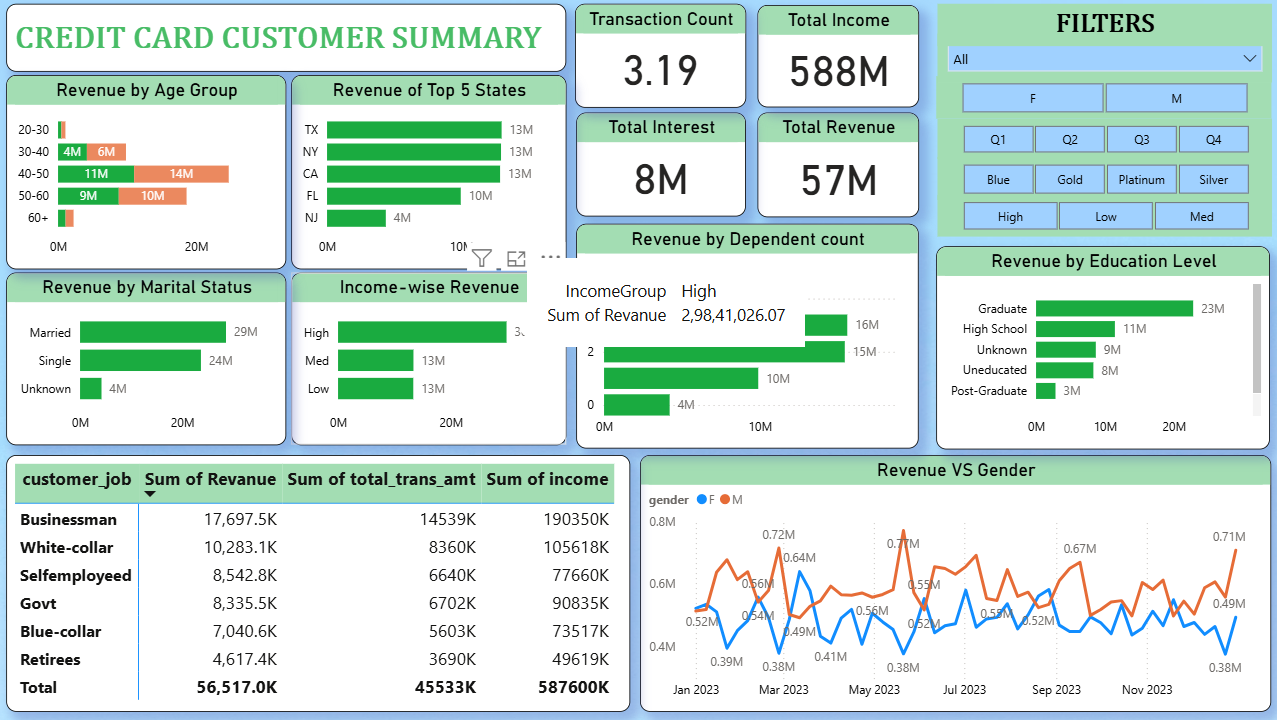

The dashboard page shown, as its layout file describes it:
{"tool":"powerbi","page":{"name":"CC cust repoer","canvas":[1280,720],"ordinal":1},"visuals":[{"type":"textbox","box":[6.3,3.8,559.7,67.8],"z":0},{"type":"card","title":"Total Revenue","fields":{"Values":["Sum(public cc_detail.Revanue)"]},"box":[756.9,112.5,161.4,105.2],"z":1000},{"type":"card","title":"Total Interest","fields":{"Values":["Sum(public cc_detail.interest_earned)"]},"box":[576,112.5,170,103.9],"z":2000},{"type":"card","title":"Total Income","fields":{"Values":["Sum(public cust_detail.income)"]},"box":[756.9,4.9,161.4,102.7],"z":3000},{"type":"card","title":"Transaction Count","fields":{"Values":["Avg(public cust_detail.cust_satisfaction_score)"]},"box":[574.7,3.7,171.2,103.9],"z":4000},{"type":"slicer","fields":{"Values":["public cc_detail.card_category"]},"box":[937.9,157.7,335.1,42.8],"z":5000},{"type":"slicer","fields":{"Values":["public cust_detail.gender"]},"box":[936.7,75.8,335.1,42.8],"z":6000},{"type":"slicer","fields":{"Values":["public cc_detail.week_num"]},"box":[937.9,34.2,335.1,48.9],"z":7000},{"type":"slicer","fields":{"Values":["public cust_detail.IncomeGroup"]},"box":[937.9,194.4,335.1,41.6],"z":8000},{"type":"slicer","fields":{"Values":["public cc_detail.qtr"]},"box":[937.9,118.6,335.1,40.4],"z":9000},{"type":"textbox","box":[937.9,3.7,335.1,42.8],"z":10000},{"type":"lineChart","title":"\tRevenue VS Gender","fields":{"Y":["Sum(public cc_detail.Revanue)"],"Category":["public cc_detail.week_start_date.Variation.Date Hierarchy.Year","public cc_detail.week_start_date.Variation.Date Hierarchy.Quarter","public cc_detail.week_start_date.Variation.Date Hierarchy.Month","public cc_detail.week_start_date.Variation.Date Hierarchy.Day"],"Series":["public cust_detail.gender"]},"box":[639.5,454.9,631,256.8],"z":11000},{"type":"barChart","title":"\tRevenue of Top 5 States","fields":{"Category":["public cust_detail.state_cd"],"Y":["Sum(public cc_detail.Revanue)"]},"box":[291,74.6,275.1,194.4],"z":12000},{"type":"barChart","title":"Income-wise \tRevenue","fields":{"Category":["public cust_detail.IncomeGroup"],"Y":["Sum(public cc_detail.Revanue)"]},"box":[291,272.7,275.1,172.4],"z":13000},{"type":"barChart","title":"\tRevenue by Dependent count","fields":{"Y":["Sum(public cc_detail.Revanue)"],"Category":["public cust_detail.dependent_count"]},"box":[576,223.8,342.4,225],"z":14000},{"type":"barChart","title":"\tRevenue by Marital Status","fields":{"Category":["public cust_detail.marital_status"],"Y":["Sum(public cc_detail.Revanue)"]},"box":[6.1,272.7,280,172.4],"z":15000},{"type":"barChart","title":"\tRevenue by Education Level ","fields":{"Y":["Sum(public cc_detail.Revanue)"],"Category":["public cust_detail.education_level"]},"box":[936.7,245.8,333.8,203],"z":16000},{"type":"pivotTable","fields":{"Rows":["public cust_detail.customer_job"],"Values":["Sum(public cc_detail.Revanue)","Sum(public cc_detail.total_trans_amt)","Sum(public cust_detail.income)"]},"box":[6.1,454.9,623.6,256.8],"z":17000},{"type":"barChart","title":"\tRevenue by Age Group","fields":{"Y":["Sum(public cc_detail.Revanue)"],"Category":["public cust_detail.AgeGroup"],"Series":["public cust_detail.gender"]},"box":[6.1,74.6,280,194.4],"z":18000}]}

Visuals, with their boxes in screenshot pixels (x1, y1, x2, y2), scaled from the page's 1280x720 canvas onto the 1277x720 screenshot:
textbox: Rect(6, 4, 565, 72)
"Total Revenue" card: Rect(755, 112, 916, 218)
"Total Interest" card: Rect(575, 112, 744, 216)
"Total Income" card: Rect(755, 5, 916, 108)
"Transaction Count" card: Rect(573, 4, 744, 108)
slicer - public cc_detail.card_category: Rect(936, 158, 1270, 200)
slicer - public cust_detail.gender: Rect(935, 76, 1269, 119)
slicer - public cc_detail.week_num: Rect(936, 34, 1270, 83)
slicer - public cust_detail.IncomeGroup: Rect(936, 194, 1270, 236)
slicer - public cc_detail.qtr: Rect(936, 119, 1270, 159)
textbox: Rect(936, 4, 1270, 46)
"	Revenue VS Gender" lineChart: Rect(638, 455, 1268, 712)
"	Revenue of Top 5 States" barChart: Rect(290, 75, 565, 269)
"Income-wise 	Revenue" barChart: Rect(290, 273, 565, 445)
"	Revenue by Dependent count" barChart: Rect(575, 224, 916, 449)
"	Revenue by Marital Status" barChart: Rect(6, 273, 285, 445)
"	Revenue by Education Level " barChart: Rect(935, 246, 1268, 449)
pivotTable - public cust_detail.customer_job x Sum(public cc_detail.Revanue): Rect(6, 455, 628, 712)
"	Revenue by Age Group" barChart: Rect(6, 75, 285, 269)
